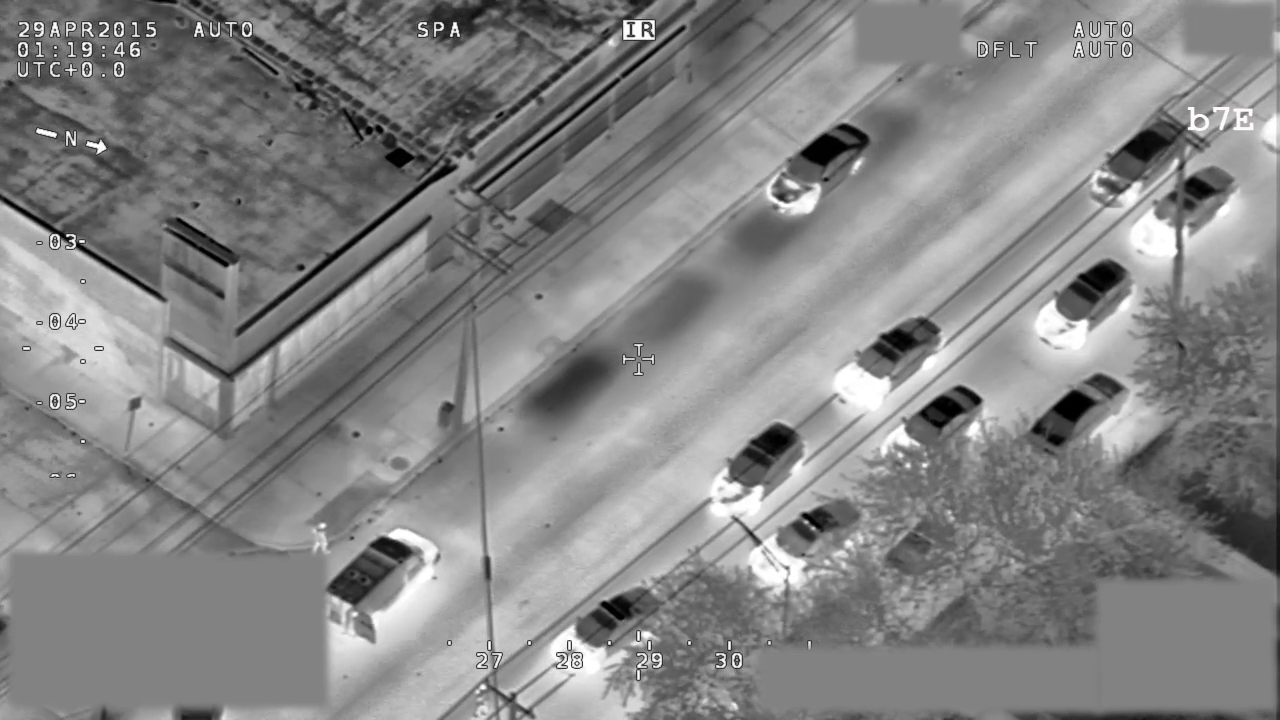vehicle: (327, 527, 443, 641), (545, 585, 663, 684), (833, 311, 947, 411), (1128, 164, 1241, 264), (1081, 113, 1198, 209), (751, 497, 861, 593), (1027, 258, 1138, 351), (877, 382, 990, 472), (764, 123, 869, 217), (1026, 373, 1135, 458), (709, 419, 804, 515)
